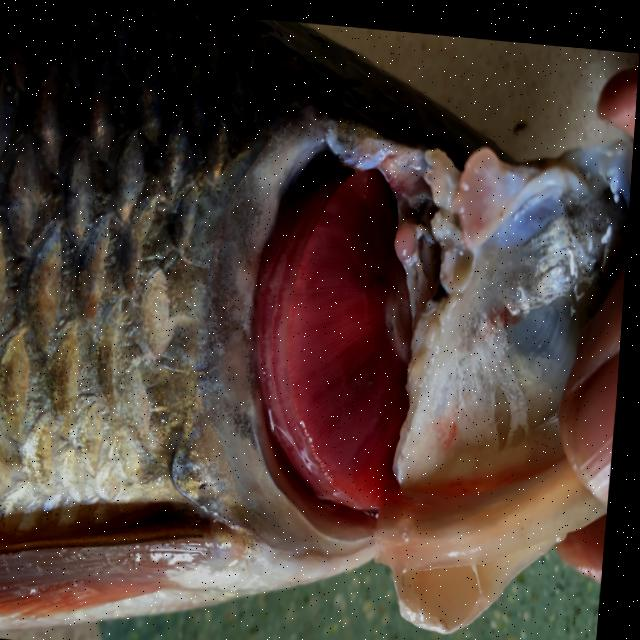Fresh: (227, 72, 464, 578)
